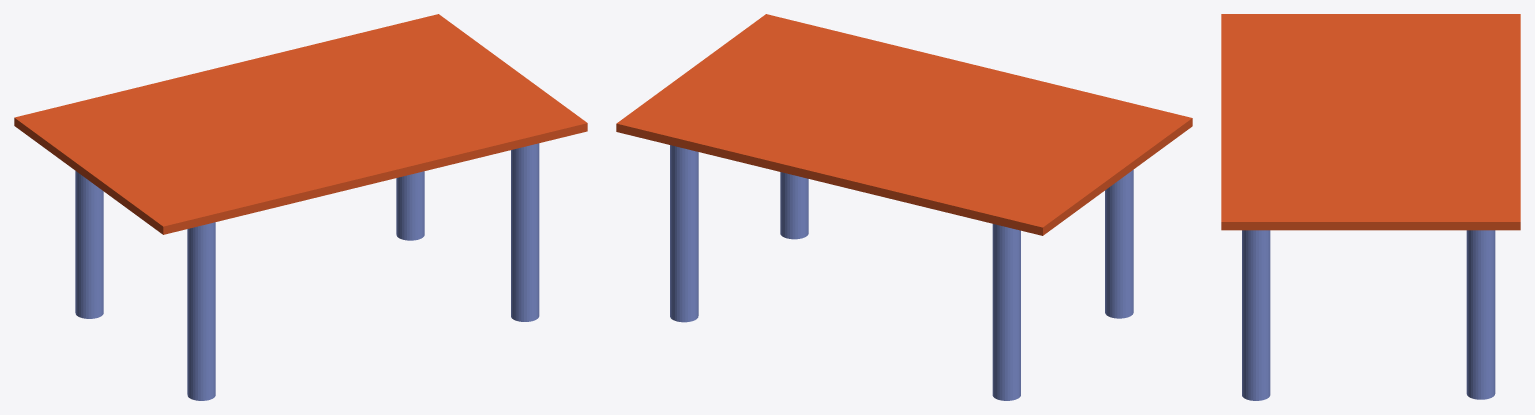
Rendered from tablel.fbx.
3 views of the same model, side by side, from view 1: azimuth 30°, elevation 25°; view 2: azimuth 150°, elevation 25°; view 3: azimuth 270°, elevation 25° (orthographic).
Visible parts, largest first — view 1: Plane.008, Cylinder.011, Cylinder.010, Cylinder.009, Cylinder.008; view 2: Plane.008, Cylinder.008, Cylinder.009, Cylinder.010, Cylinder.011; view 3: Plane.008, Cylinder.008, Cylinder.011.
Part boxes in pixels (bbox=[...]): Plane.008: bbox=[14, 14, 587, 234]; Cylinder.011: bbox=[511, 143, 539, 321]; Cylinder.010: bbox=[187, 222, 215, 400]; Cylinder.009: bbox=[75, 171, 103, 318]; Cylinder.008: bbox=[396, 171, 424, 240]; Plane.008: bbox=[616, 14, 1192, 235]; Cylinder.008: bbox=[670, 145, 698, 322]; Cylinder.009: bbox=[992, 224, 1020, 400]; Cylinder.010: bbox=[1105, 170, 1133, 318]; Cylinder.011: bbox=[780, 172, 808, 239]; Plane.008: bbox=[1221, 14, 1520, 230]; Cylinder.008: bbox=[1466, 230, 1495, 399]; Cylinder.011: bbox=[1242, 230, 1270, 400].
Size of the model in its own units: 3456 by 1514 by 2102.
